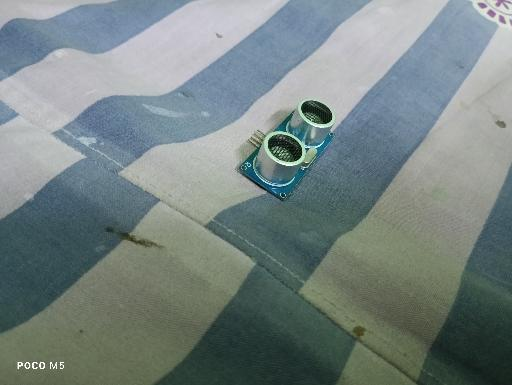sensor: (236, 98, 337, 202)
